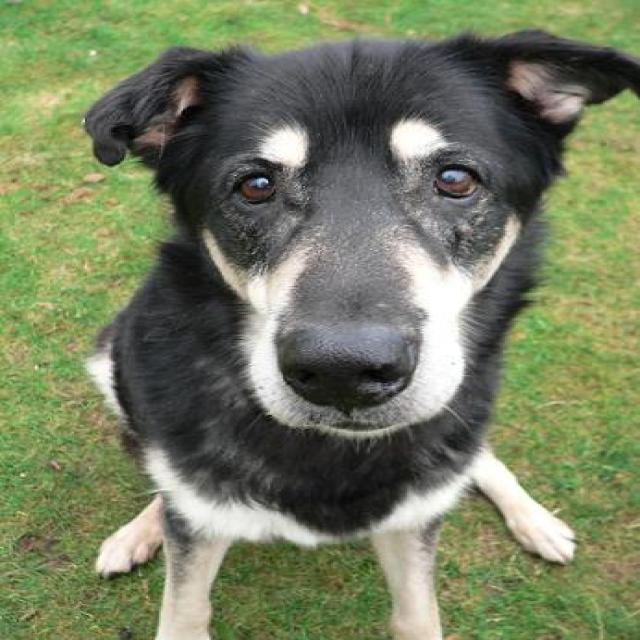Dogs: (78, 26, 638, 638)
